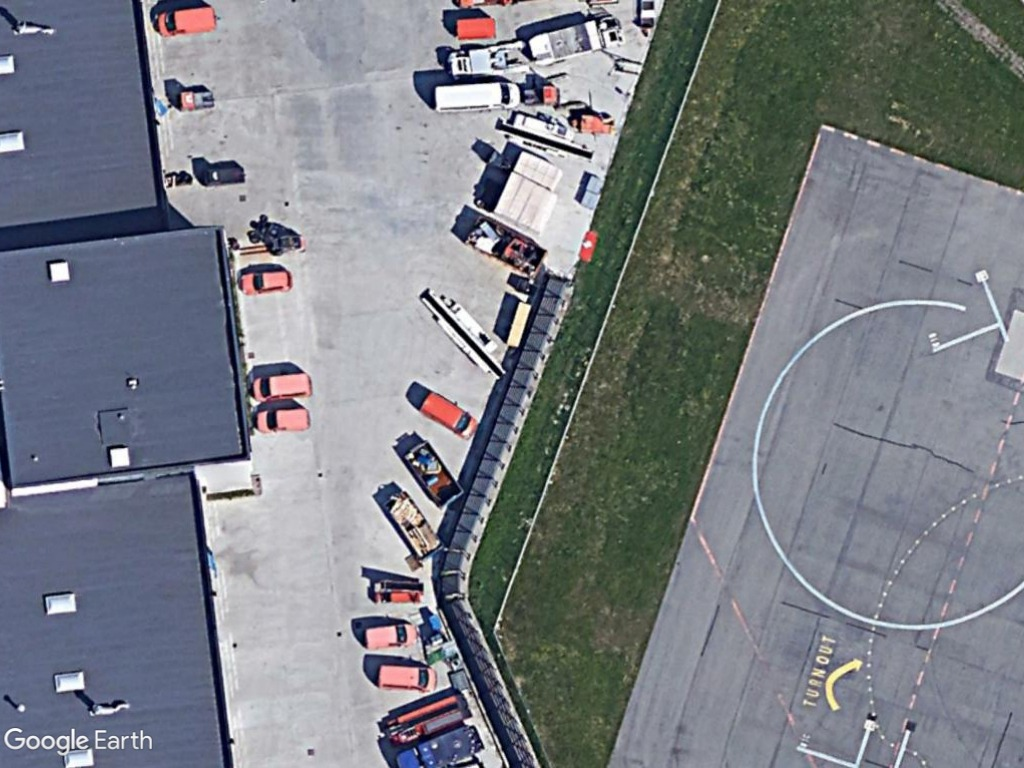car: (252, 402, 315, 437), (362, 620, 422, 653), (236, 265, 295, 298)
pushbacktruck: (442, 37, 534, 87)
van: (432, 76, 524, 116), (416, 388, 483, 442), (153, 4, 221, 39), (247, 370, 316, 404), (374, 658, 441, 693)
